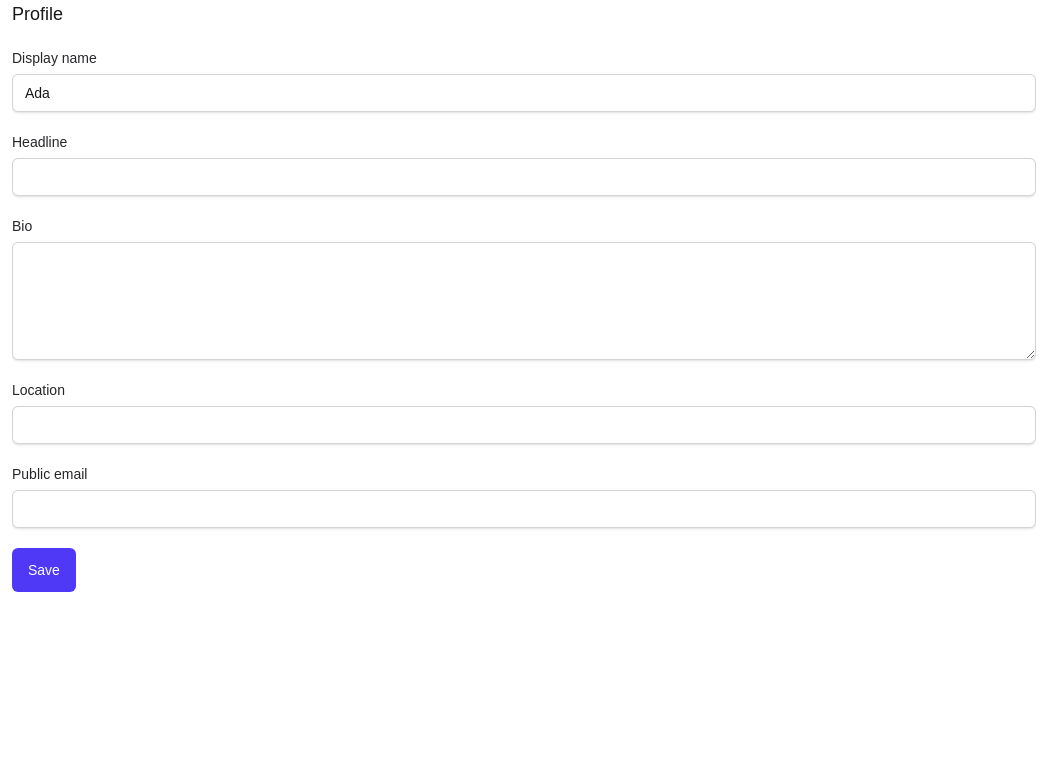
Test case: ProfileEditor › shows field validation errors
Expected: the field labelled "Display name" is shown, x1=12 y1=74 x2=1036 y2=112
Step 1. Type "ada@example.com" into the field labelled "Public email" → (524, 509), box x1=12 y1=490 x2=1036 y2=528
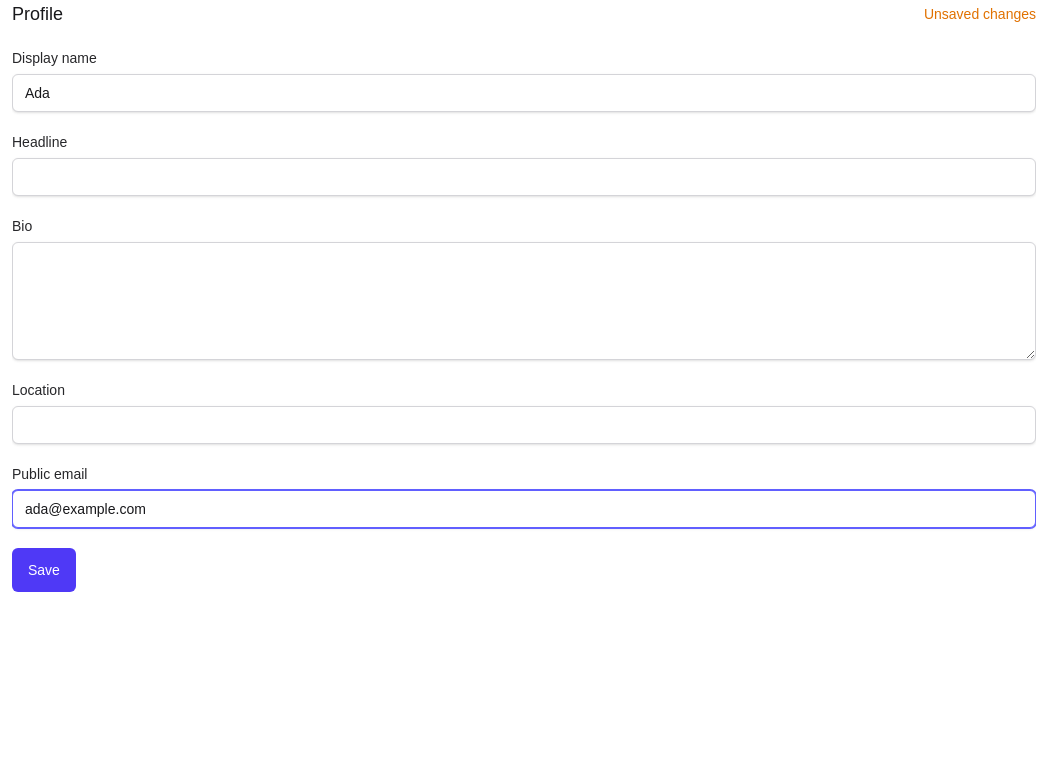
Step 2. Click the button "Save" → (44, 570), box x1=12 y1=548 x2=76 y2=592
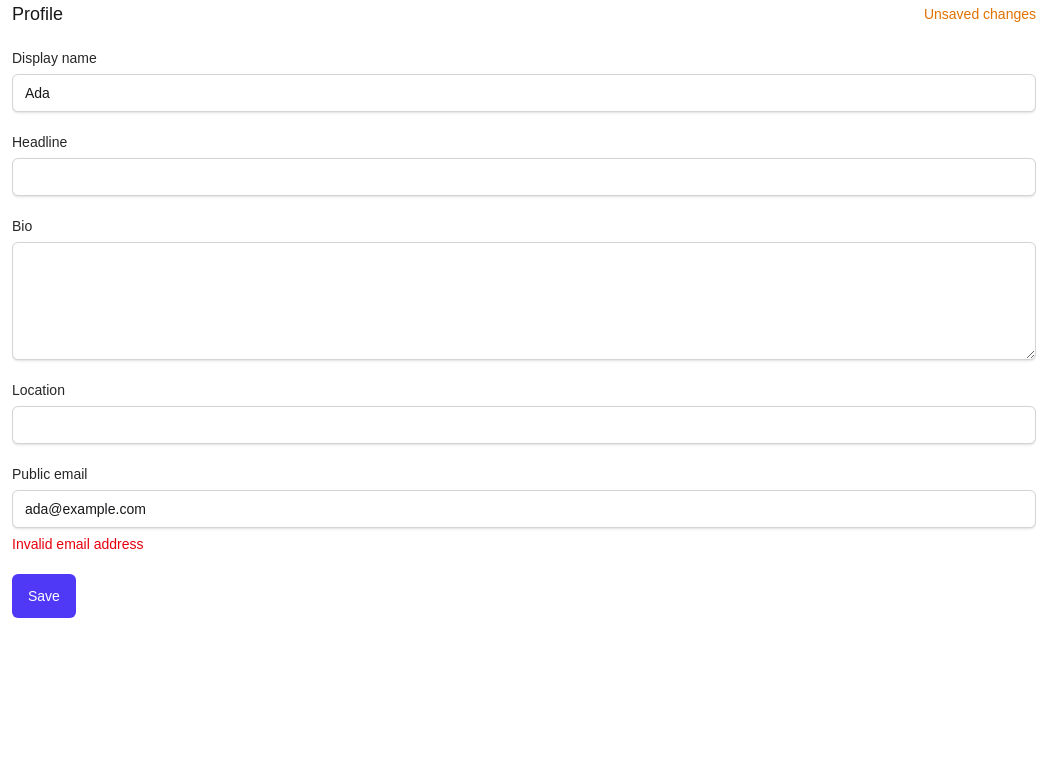
Expected: the text "Invalid email address" is shown, x1=12 y1=536 x2=144 y2=552
